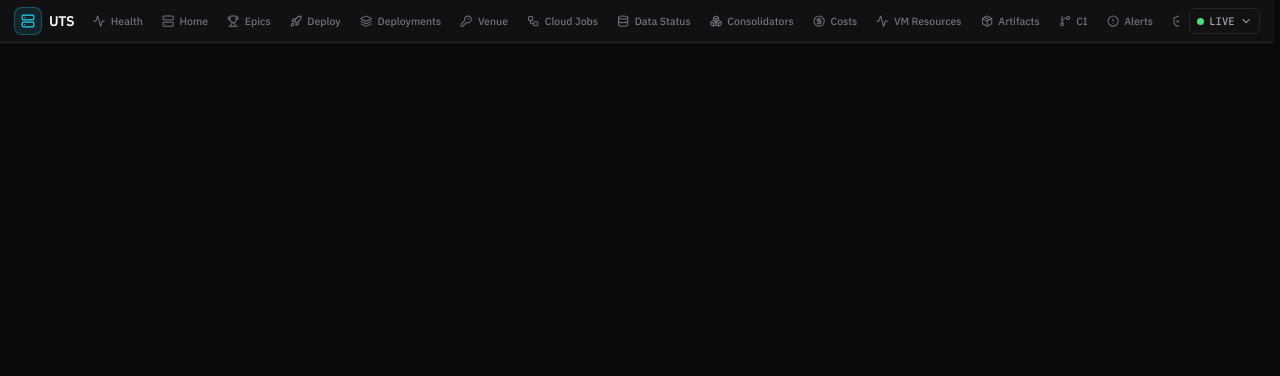
Header › shows Connected badge when API is healthy
The width and height of the screenshot is (1280, 376).
Click the button with test id "status-menu-trigger": {"x": 1224, "y": 21} [1189, 8, 1260, 34]
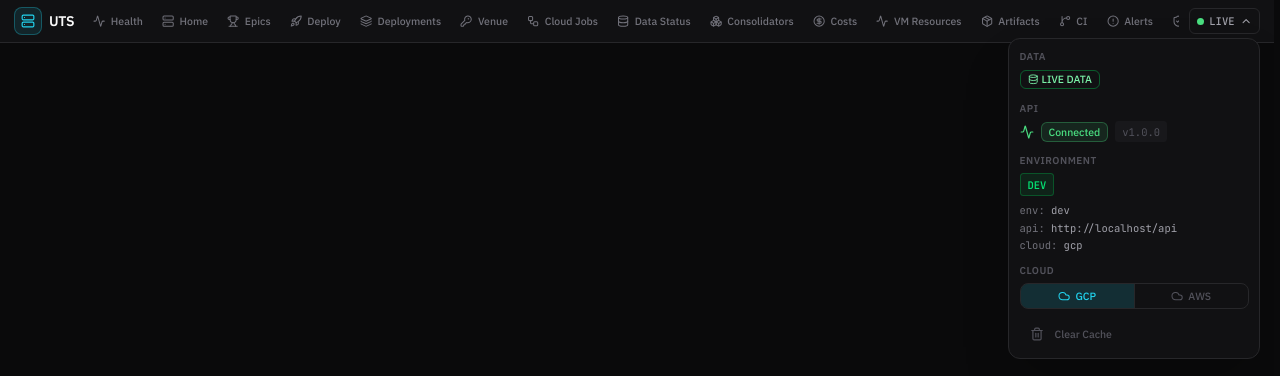
Result: the text "Connected" is shown at [1040, 122, 1108, 142]
